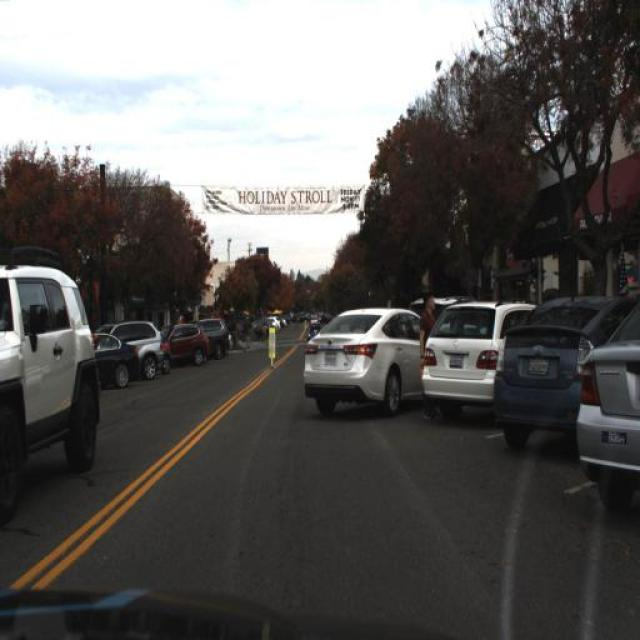car: (0, 258, 106, 534), (488, 286, 616, 457), (491, 291, 612, 451), (423, 293, 538, 418), (301, 303, 430, 413), (417, 294, 538, 410), (94, 317, 166, 383), (89, 329, 140, 390), (165, 326, 206, 368), (197, 314, 232, 356)
trafficLight: (413, 288, 442, 418)
